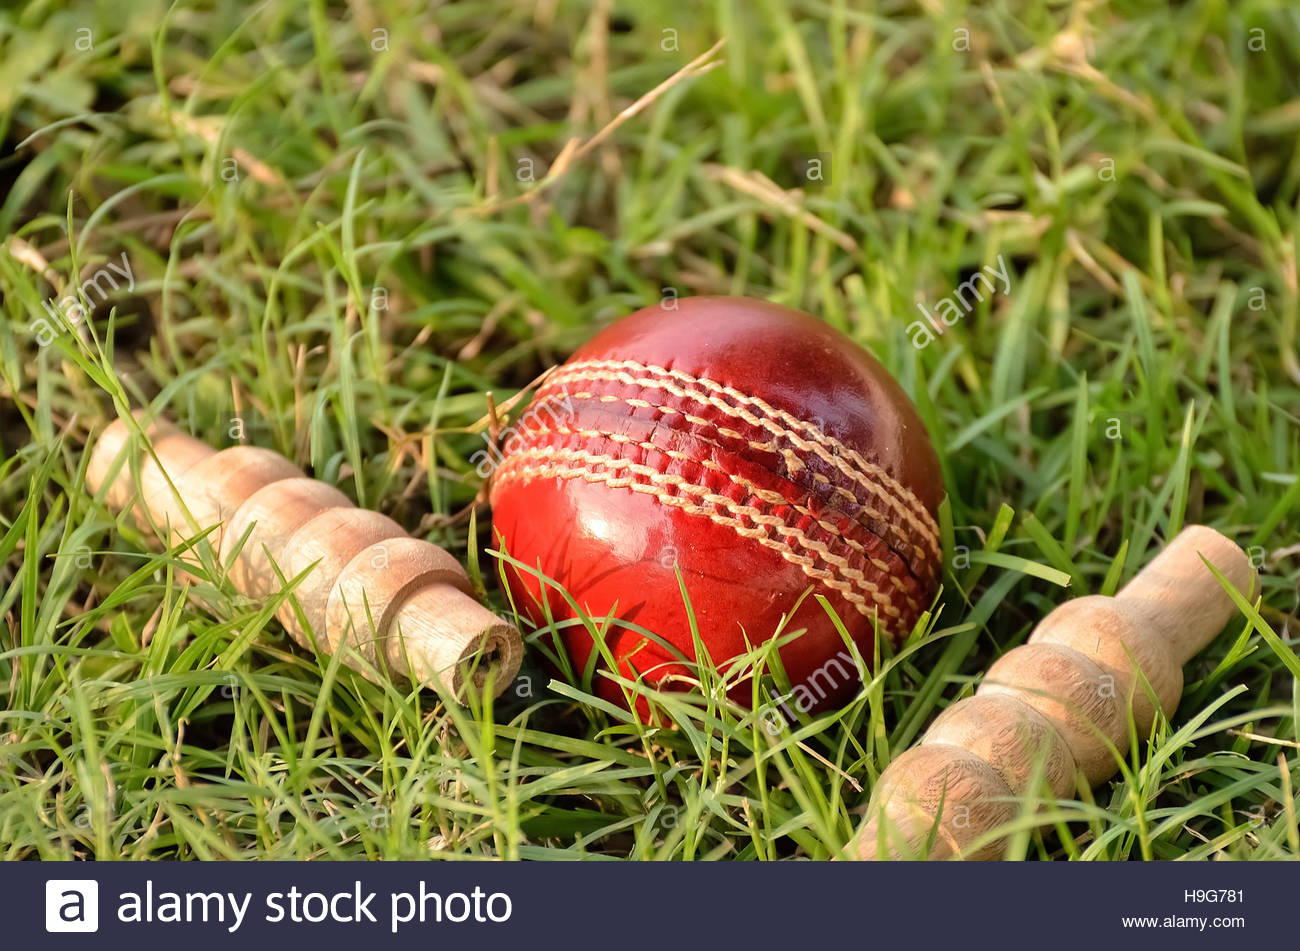red ball: (483, 295, 957, 749)
